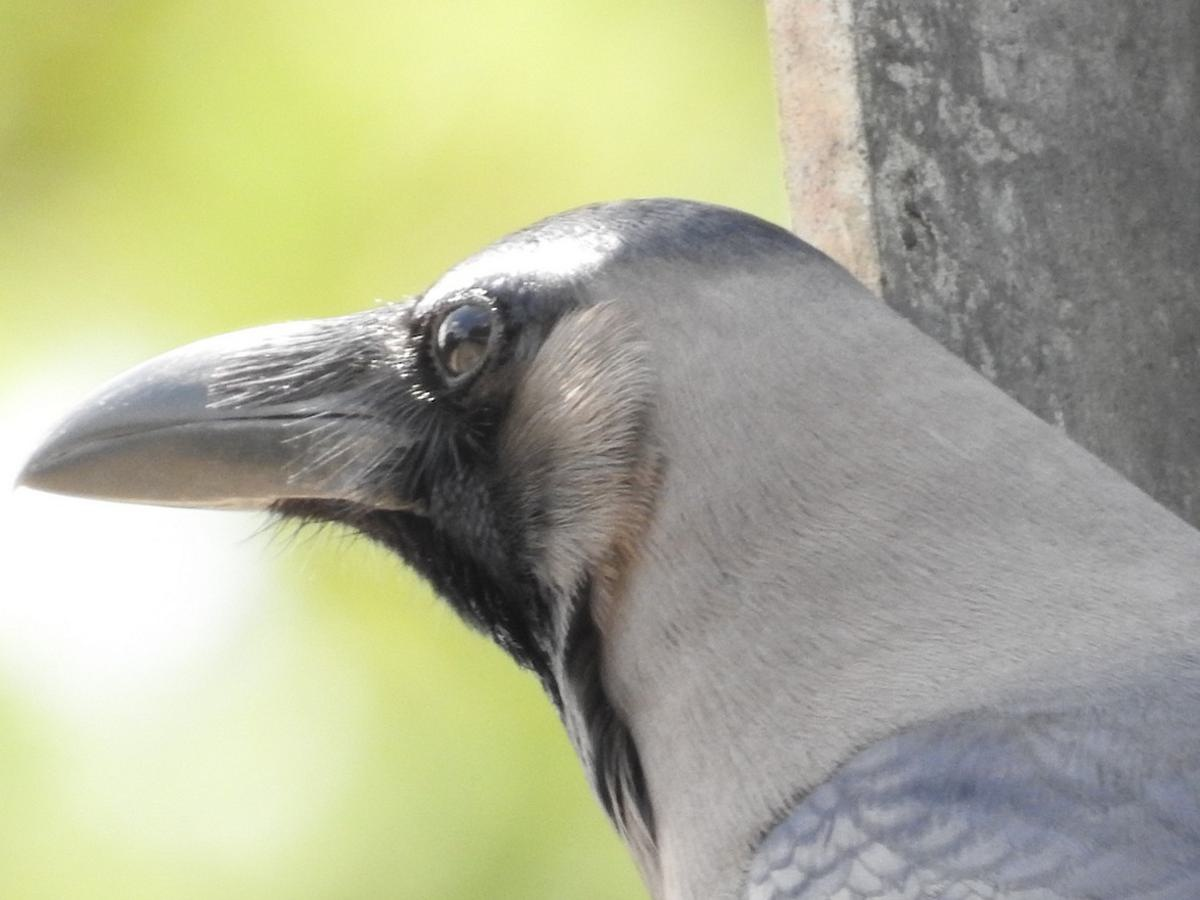crow: (23, 175, 1200, 900)
